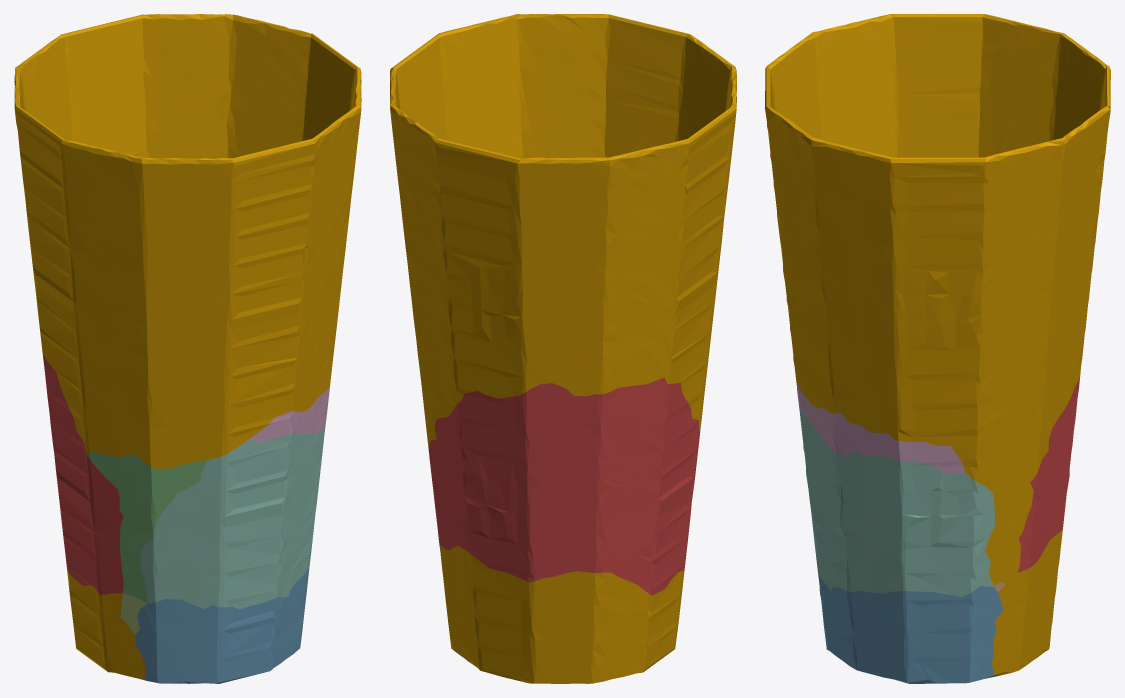
The model's file is fractured_56_8pcs.glb.
The picture shows the model from 3 angles, left to right: view 1: azimuth 30°, elevation 25°; view 2: azimuth 150°, elevation 25°; view 3: azimuth 270°, elevation 25°; orthographic projection.
Visible parts, largest first — view 1: piece_0.obj, piece_4.obj, piece_2.obj, piece_1.obj, piece_3.obj, piece_6.obj, piece_5.obj; view 2: piece_0.obj, piece_1.obj; view 3: piece_0.obj, piece_4.obj, piece_2.obj, piece_1.obj, piece_6.obj.
Boxes of the visible parts, bbox=[...] form: piece_0.obj: bbox=[14, 14, 361, 680]; piece_4.obj: bbox=[140, 428, 325, 609]; piece_2.obj: bbox=[135, 568, 309, 683]; piece_1.obj: bbox=[43, 355, 123, 595]; piece_3.obj: bbox=[86, 452, 207, 603]; piece_6.obj: bbox=[246, 386, 329, 443]; piece_5.obj: bbox=[120, 593, 146, 634]; piece_0.obj: bbox=[390, 14, 736, 683]; piece_1.obj: bbox=[428, 377, 700, 595]; piece_0.obj: bbox=[765, 14, 1110, 676]; piece_4.obj: bbox=[799, 407, 994, 596]; piece_2.obj: bbox=[818, 574, 1003, 683]; piece_1.obj: bbox=[1018, 377, 1079, 572]; piece_6.obj: bbox=[796, 383, 965, 473].
Size of the model in its own units: 0.5675 by 1 by 0.5677.
